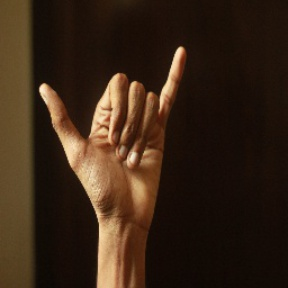J: (29, 37, 190, 211)
